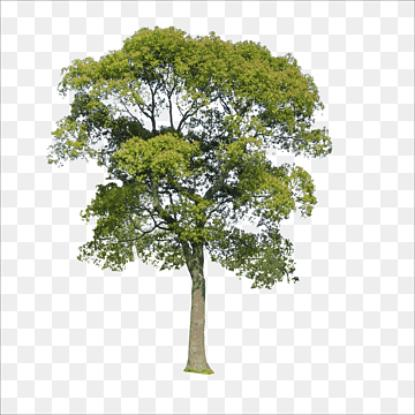tree: (46, 16, 337, 385)
